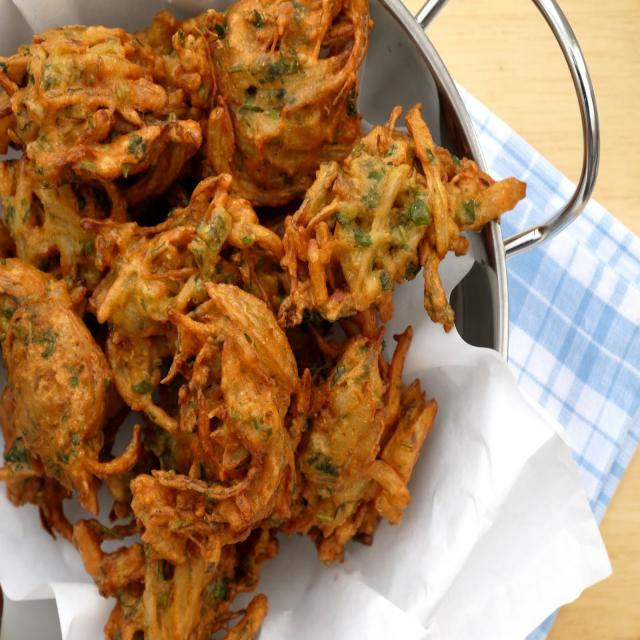Onion Pakora: (0, 0, 527, 640)
